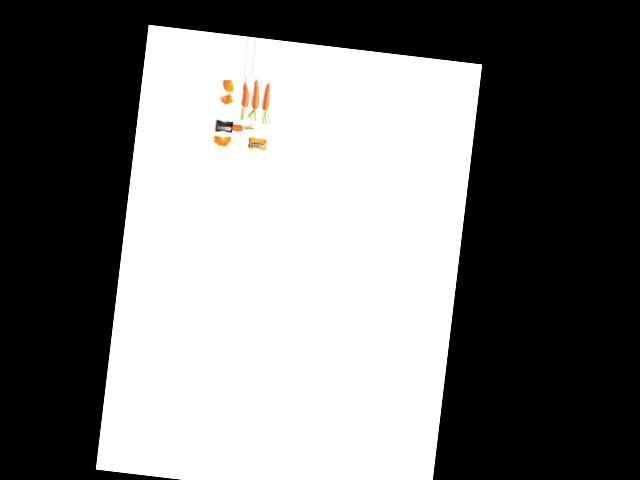carrot: (236, 80, 254, 111)
